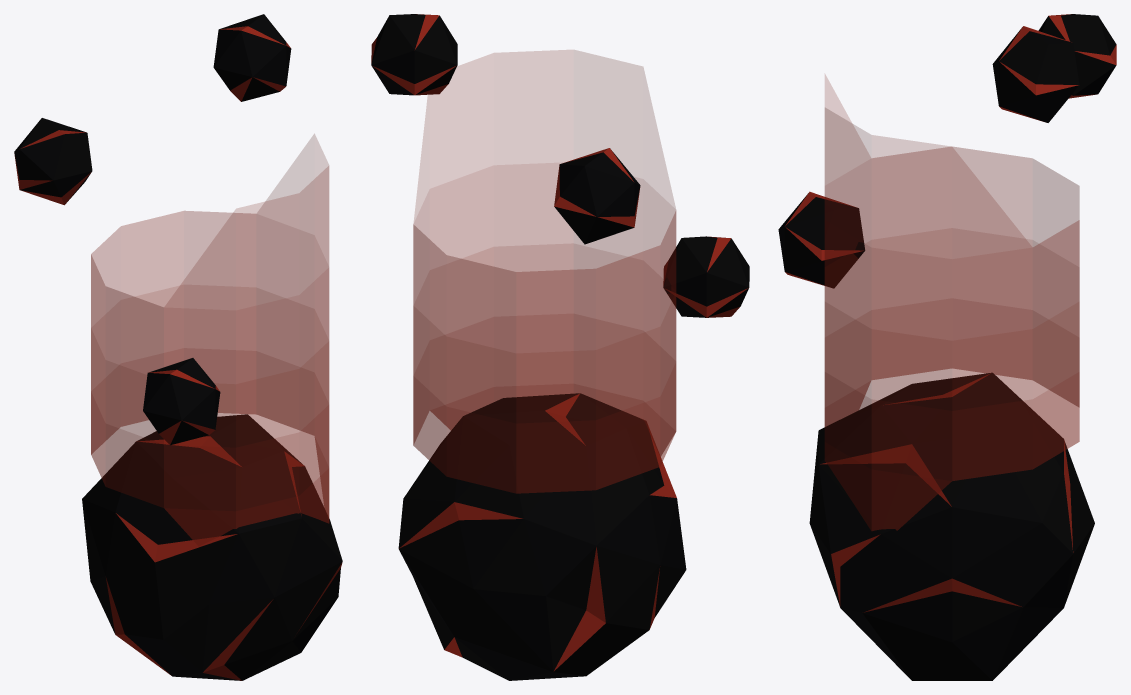
File: jad_range.glb
3 views of the same model, side by side, from view 1: azimuth 30°, elevation 25°; view 2: azimuth 150°, elevation 25°; view 3: azimuth 270°, elevation 25° (orthographic). The views are drawn at different scales.
Bounding box in the file's own units: 105 × 235 × 109.
Materials: 2 (2 with a texture image).
